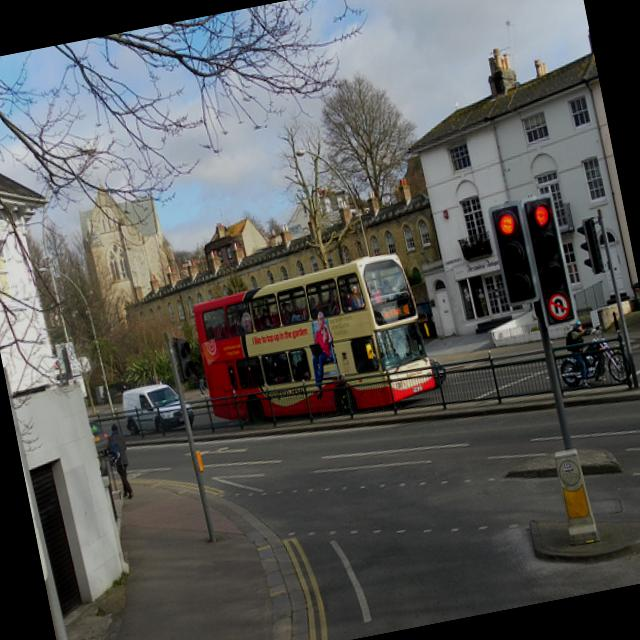Vehicle: (190, 249, 438, 439), (556, 320, 630, 394), (119, 378, 197, 440)
